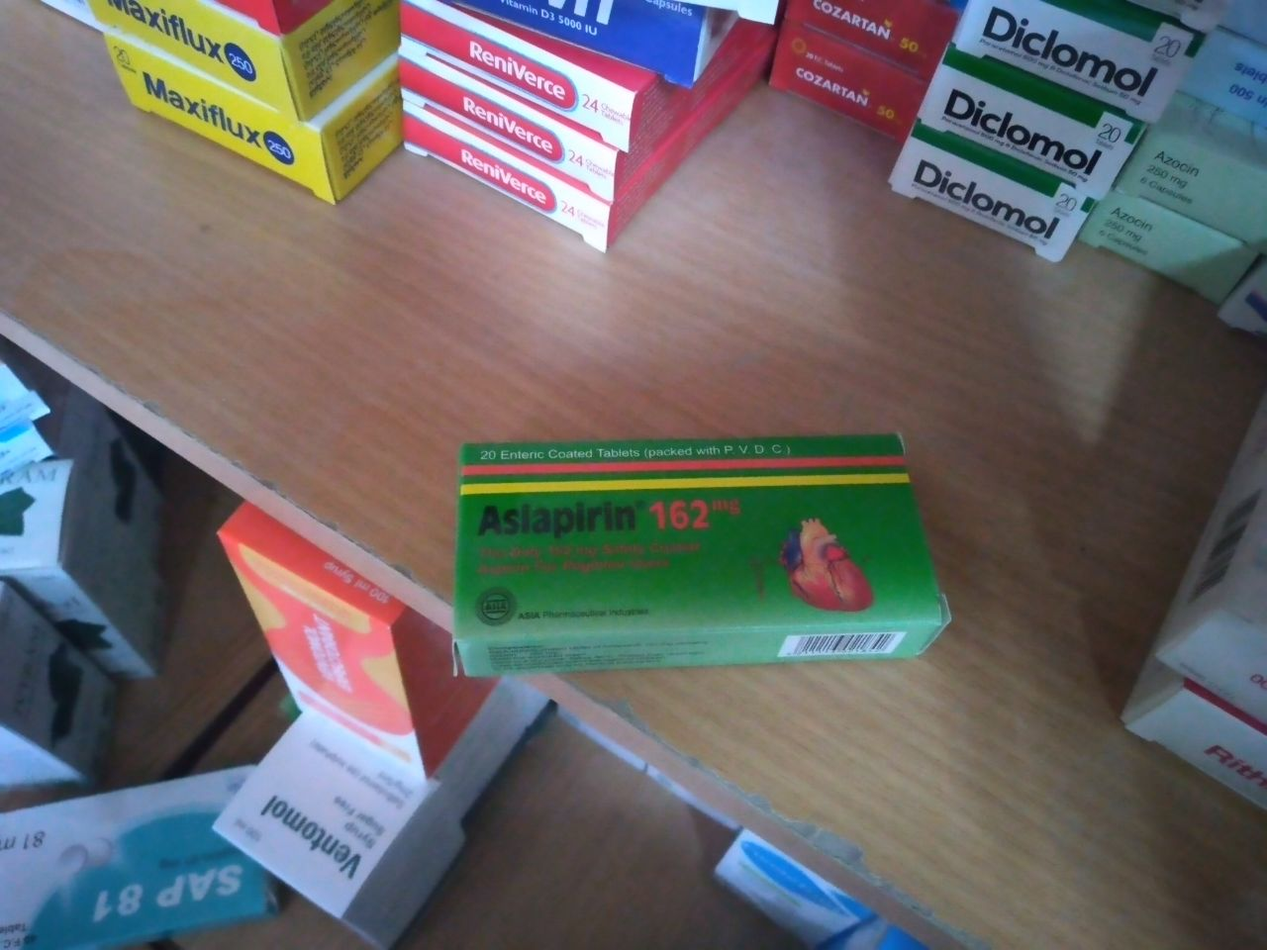Medicine: (450, 428, 955, 688)
